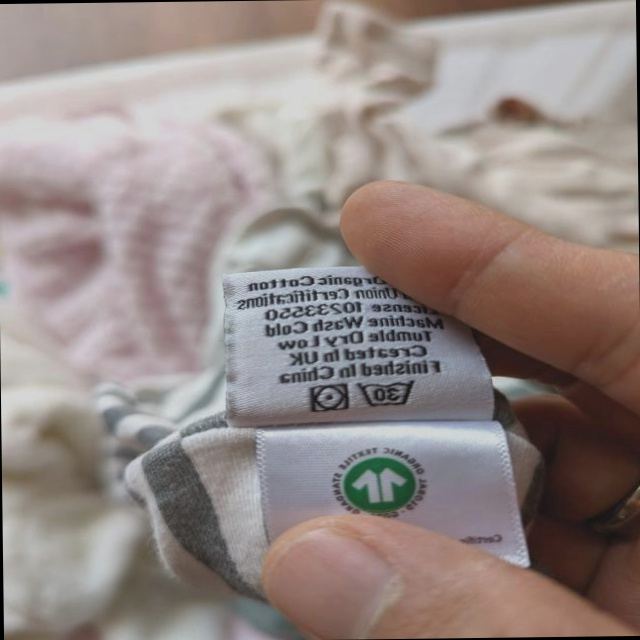30C: (355, 376, 420, 411)
tumble_dry_low: (307, 381, 351, 416)
